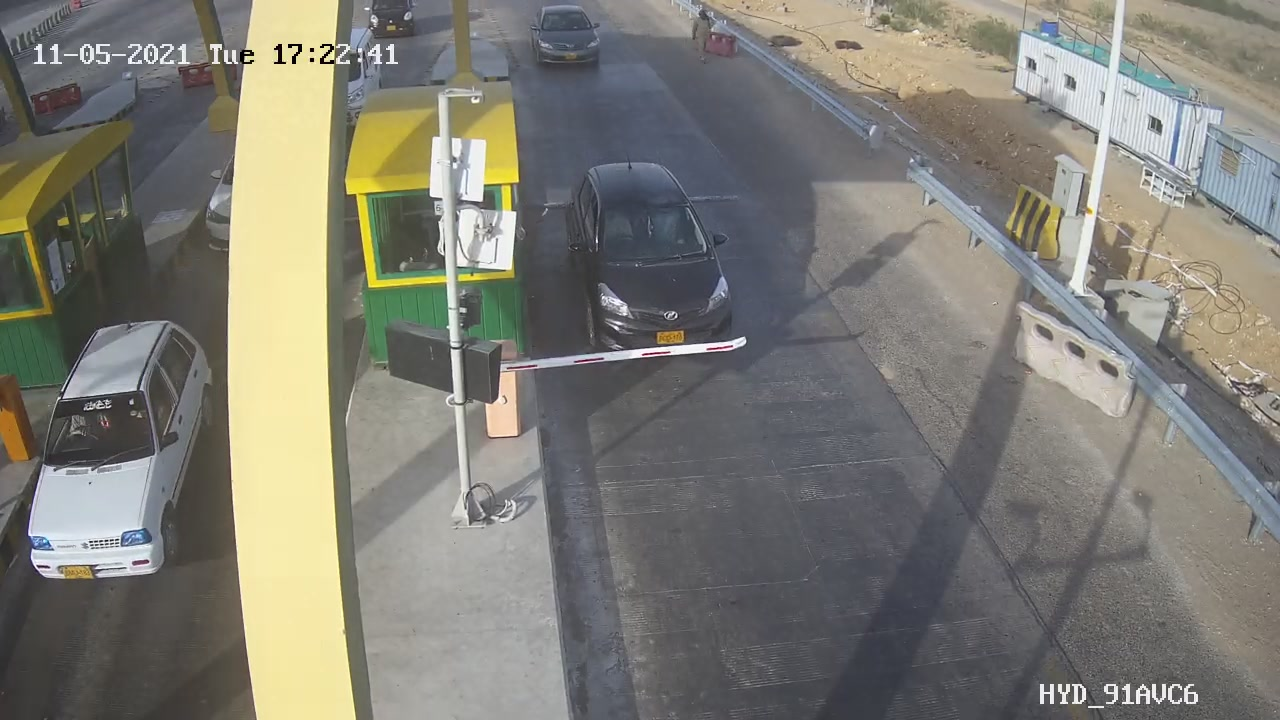F1: (547, 147, 759, 390)
